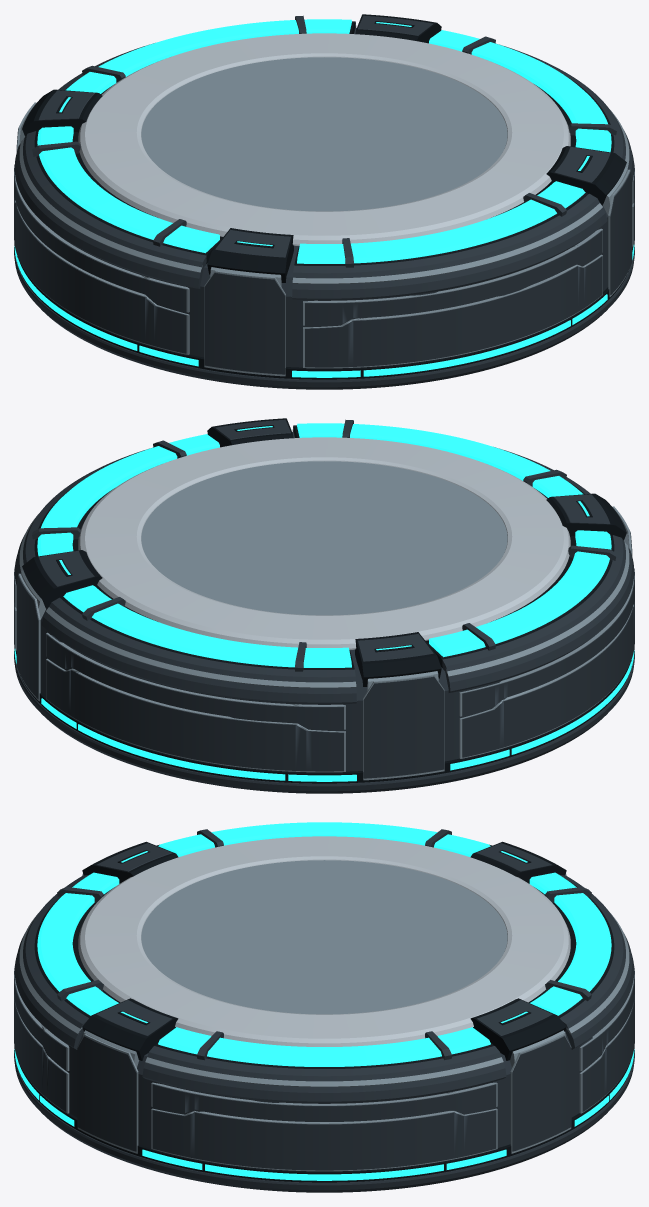
File: Grippy.fbx
The picture shows the model from 3 angles, top to bottom: view 1: azimuth 30°, elevation 25°; view 2: azimuth 150°, elevation 25°; view 3: azimuth 270°, elevation 25°; orthographic projection.
Parts seen in each view (by area): view 1: SM_Puck_Grippy_HighDetail; view 2: SM_Puck_Grippy_HighDetail; view 3: SM_Puck_Grippy_HighDetail.
Boxes of the visible parts, x1,y1,x2,y2 form: SM_Puck_Grippy_HighDetail: [14, 14, 634, 389]; SM_Puck_Grippy_HighDetail: [14, 418, 634, 793]; SM_Puck_Grippy_HighDetail: [14, 822, 634, 1192].
Bounding box in the file's own units: 90.3 × 90.3 × 20.9.
